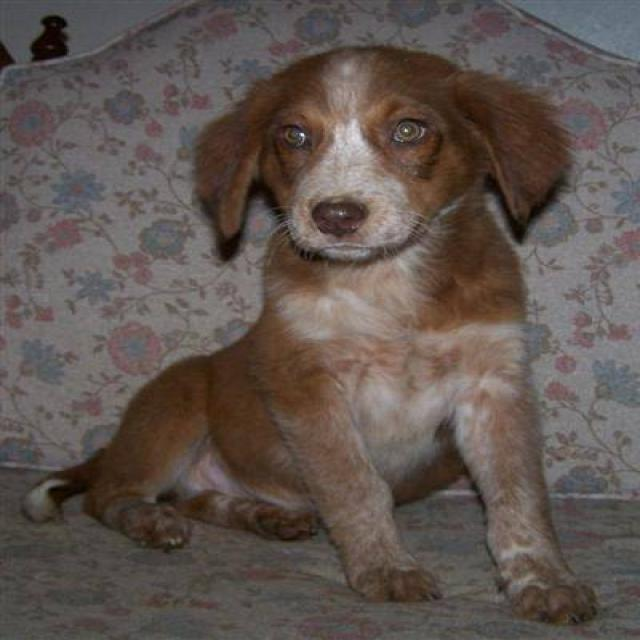dog: (19, 42, 600, 626)
